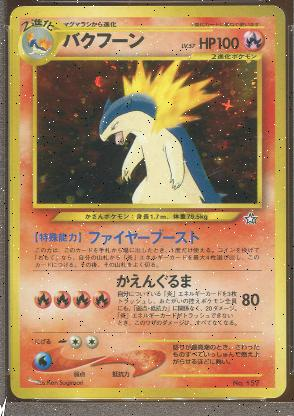Card: (7, 2, 287, 400)
